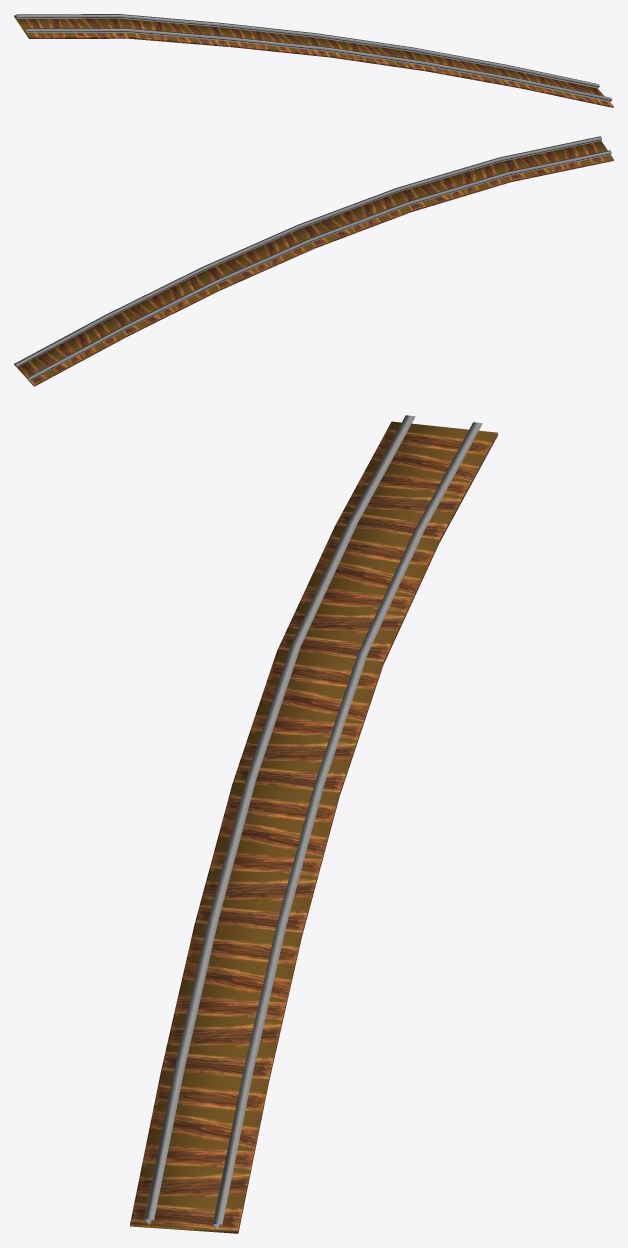
File: SWORDLIGHT20_TRACK9.fbx
The picture shows the model from 3 angles, top to bottom: view 1: azimuth 30°, elevation 25°; view 2: azimuth 210°, elevation 25°; view 3: azimuth 270°, elevation 25°; orthographic projection. The views are drawn at different scales.
Visible parts, largest first — view 1: SWORDLIGHT20_TRACK9; view 2: SWORDLIGHT20_TRACK9; view 3: SWORDLIGHT20_TRACK9.
Boxes of the visible parts, <box> form: SWORDLIGHT20_TRACK9: <box>14,14,613,107</box>; SWORDLIGHT20_TRACK9: <box>14,136,613,386</box>; SWORDLIGHT20_TRACK9: <box>130,415,497,1233</box>.
Size of the model in its own units: 180206 by 50066 by 54453.
Materials: 2 (2 with a texture image).
